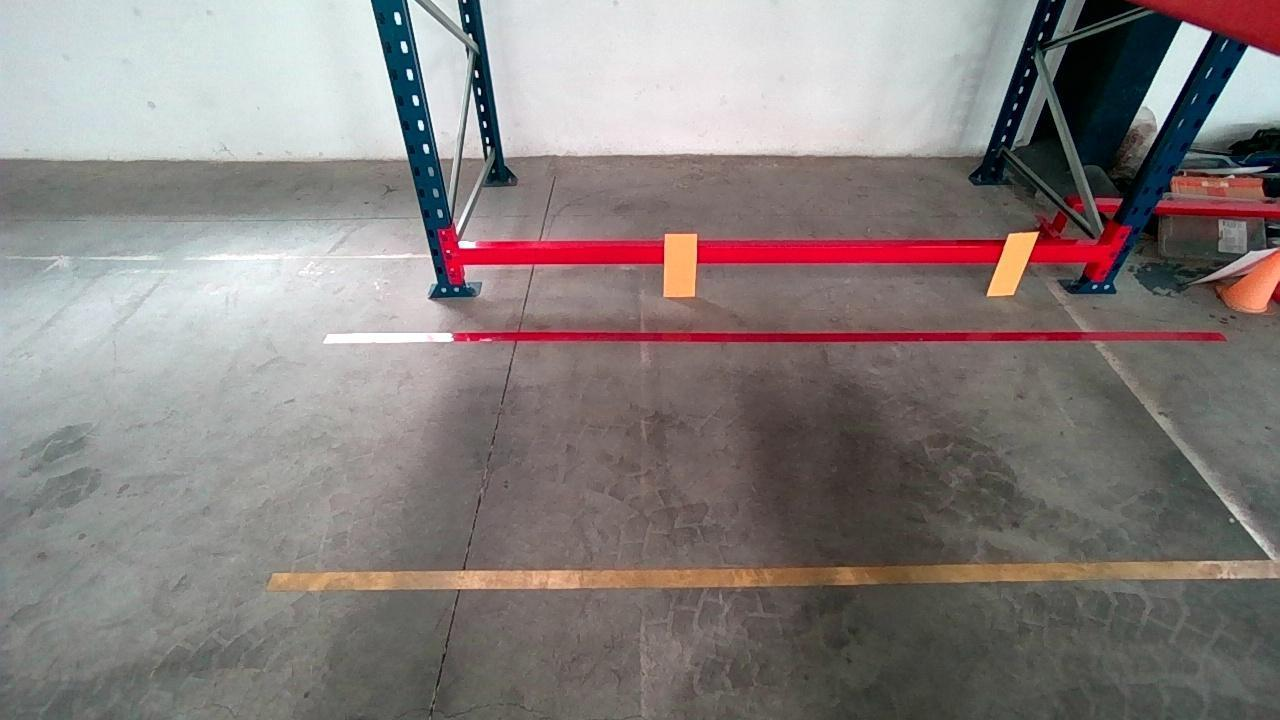h_rack: (459, 235, 1102, 272)
orange_strip: (988, 231, 1042, 294), (664, 232, 698, 295)
red_line: (319, 320, 1231, 348)
yellow_line: (265, 545, 1276, 590)
